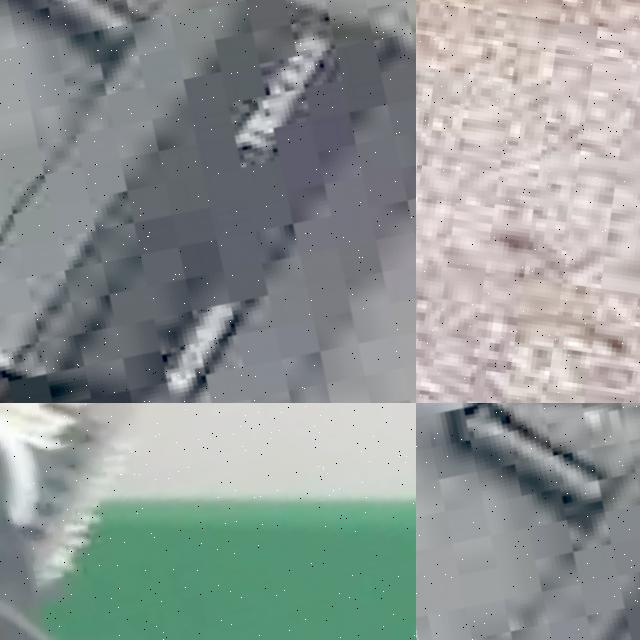0: (0, 0, 416, 403), (416, 403, 640, 640)
drone: (0, 403, 416, 640)
